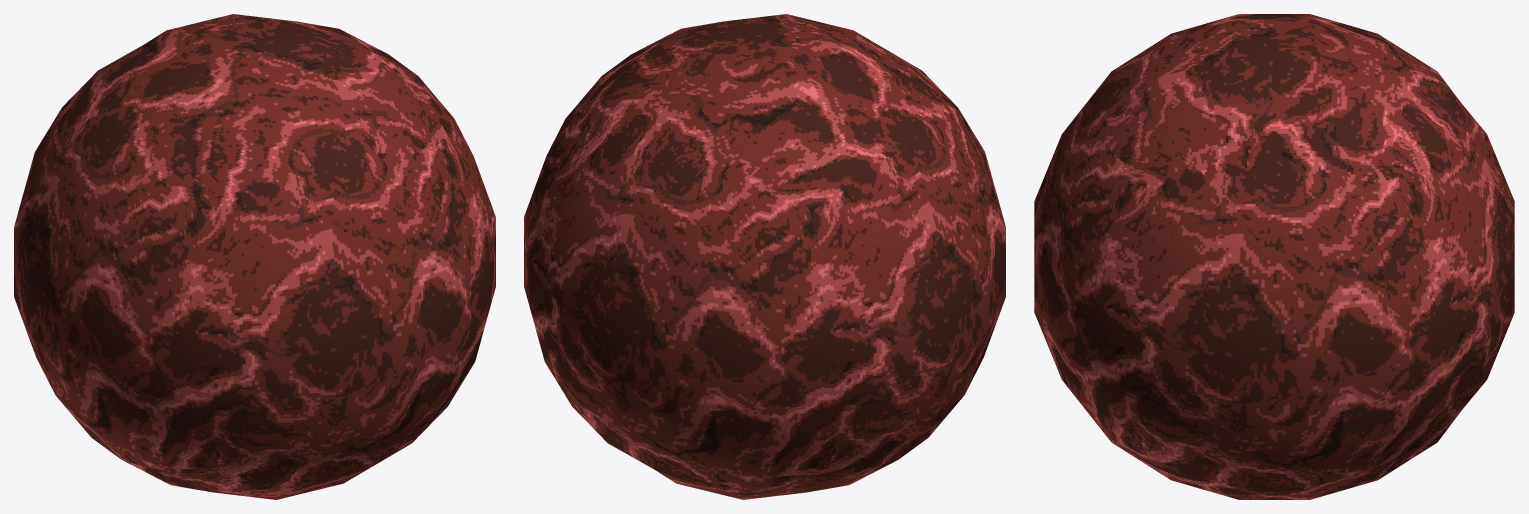
Rendered from rojo.glb.
The picture shows the model from 3 angles, left to right: view 1: azimuth 30°, elevation 25°; view 2: azimuth 150°, elevation 25°; view 3: azimuth 270°, elevation 25°; orthographic projection.
Parts seen in each view (by area): view 1: Asset3DLoader.sceneRoot; view 2: Asset3DLoader.sceneRoot; view 3: Asset3DLoader.sceneRoot.
Boxes of the visible parts, bbox=[...] form: Asset3DLoader.sceneRoot: bbox=[14, 14, 495, 499]; Asset3DLoader.sceneRoot: bbox=[524, 14, 1005, 499]; Asset3DLoader.sceneRoot: bbox=[1034, 14, 1514, 499].
Size of the model in its own units: 3.36 by 3.36 by 3.36.
1 material, 1 textured.
